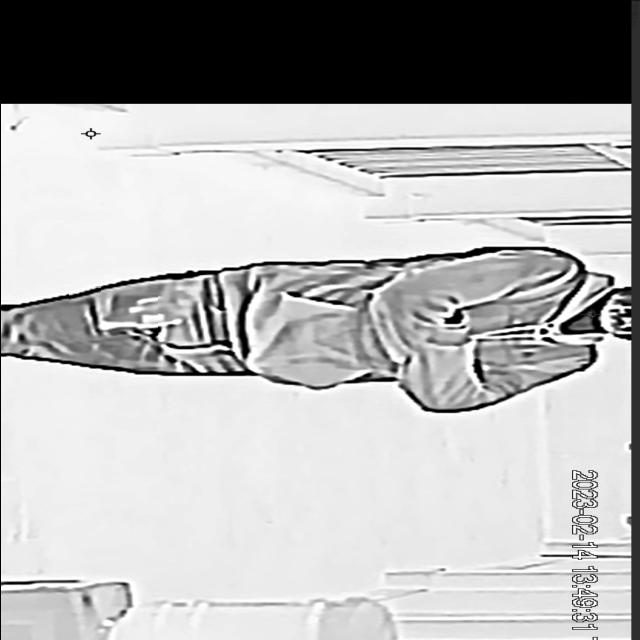Weapon: (68, 286, 190, 341)
